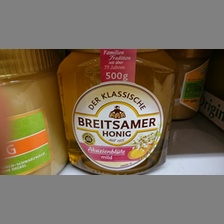honey: (57, 50, 179, 175)
